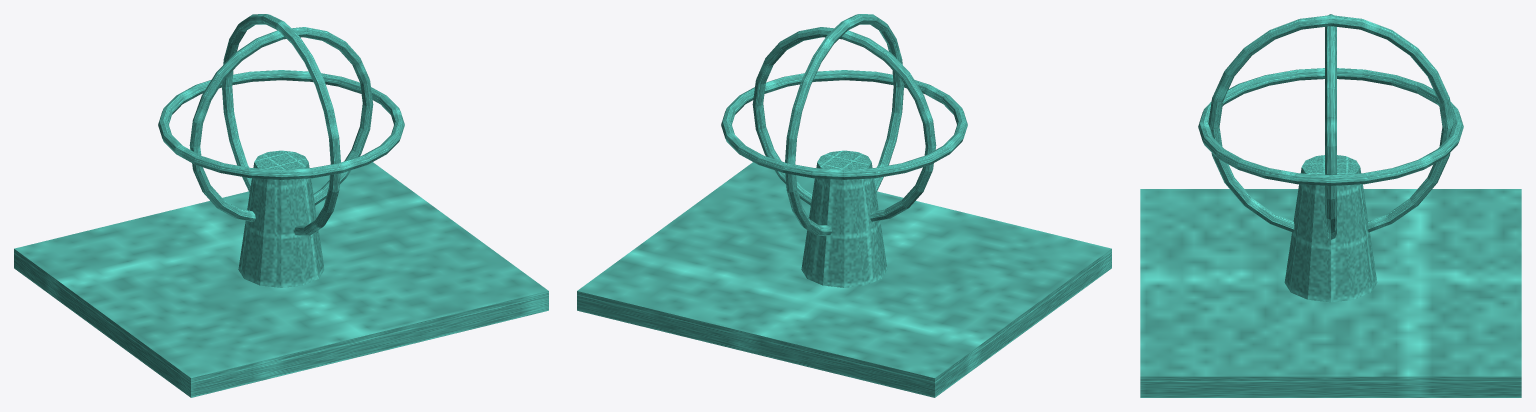
Rendered from jade_observatory_02.glb.
3 views of the same model, side by side, from view 1: azimuth 30°, elevation 25°; view 2: azimuth 150°, elevation 25°; view 3: azimuth 270°, elevation 25° (orthographic). The views are drawn at different scales.
Parts seen in each view (by area): view 1: Foundation, Pedestal, CelestialRing.002, CelestialRing, CelestialRing.001; view 2: Foundation, Pedestal, CelestialRing.002, CelestialRing, CelestialRing.001; view 3: Foundation, Pedestal, CelestialRing.001, CelestialRing.002, CelestialRing.
Part boxes in pixels (x1,y1,x2,y2): Foundation: (14,162,548,397); Pedestal: (238,150,324,287); CelestialRing.002: (158,70,404,179); CelestialRing: (189,27,373,221); CelestialRing.001: (222,14,340,235); Foundation: (577,162,1111,397); Pedestal: (801,150,887,287); CelestialRing.002: (721,70,967,179); CelestialRing: (752,27,936,221); CelestialRing.001: (785,14,903,235); Foundation: (1140,189,1521,397); Pedestal: (1284,155,1377,302); CelestialRing.001: (1208,15,1453,232); CelestialRing.002: (1198,68,1463,185); CelestialRing: (1325,14,1336,239).
Bounding box in the file's own units: 4.55 × 3.26 × 3.9.
1 material, 1 textured.
